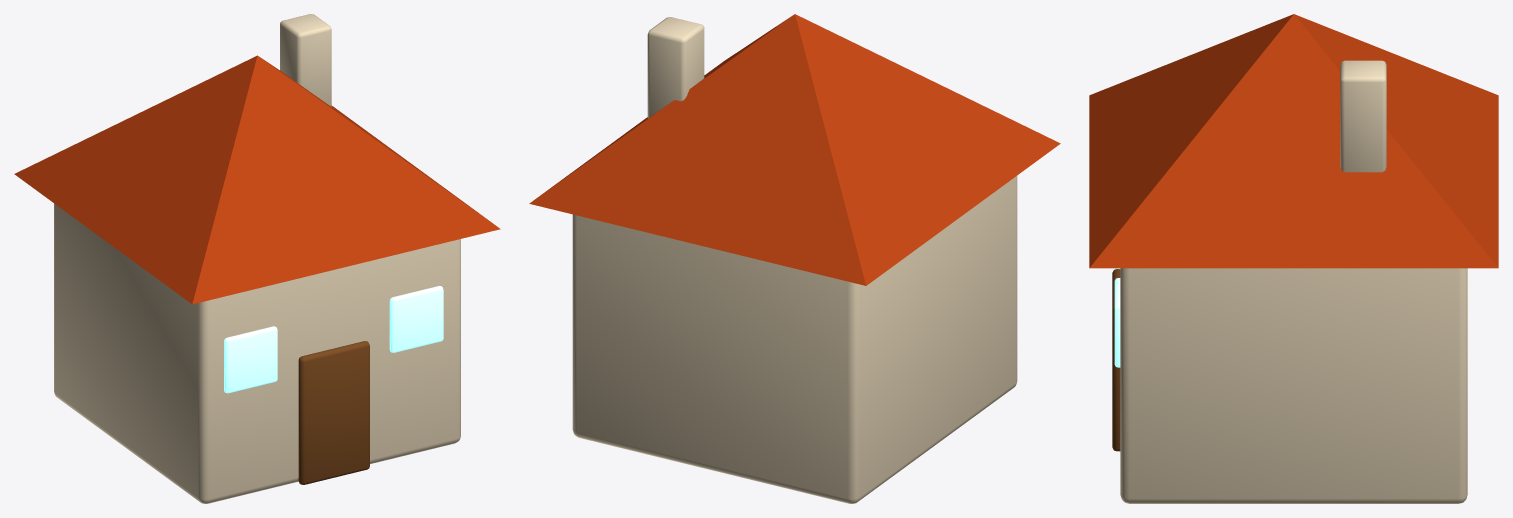
The model's file is house.glb.
3 views of the same model, side by side, from view 1: azimuth 30°, elevation 25°; view 2: azimuth 150°, elevation 25°; view 3: azimuth 270°, elevation 25° (orthographic). The views are drawn at different scales.
Visible parts, largest first — view 1: Walls, Roof, DoorP, Chimney, Win.001, Win; view 2: Walls, Roof, Chimney; view 3: Roof, Walls, Chimney, DoorP, Win.001.
Part boxes in pixels (<box>): Walls: <box>54,203,460,503</box>; Roof: <box>14,55,500,304</box>; DoorP: <box>298,341,369,484</box>; Chimney: <box>280,14,331,106</box>; Win.001: <box>389,286,443,352</box>; Win: <box>224,326,277,393</box>; Walls: <box>572,176,1017,503</box>; Roof: <box>529,14,1060,285</box>; Chimney: <box>647,17,704,118</box>; Roof: <box>1089,14,1498,268</box>; Walls: <box>1120,268,1467,503</box>; Chimney: <box>1340,60,1386,172</box>; DoorP: <box>1112,269,1120,451</box>; Win.001: <box>1114,278,1120,367</box>.
Bounding box in the file's own units: 3.54 × 4 × 3.54.
